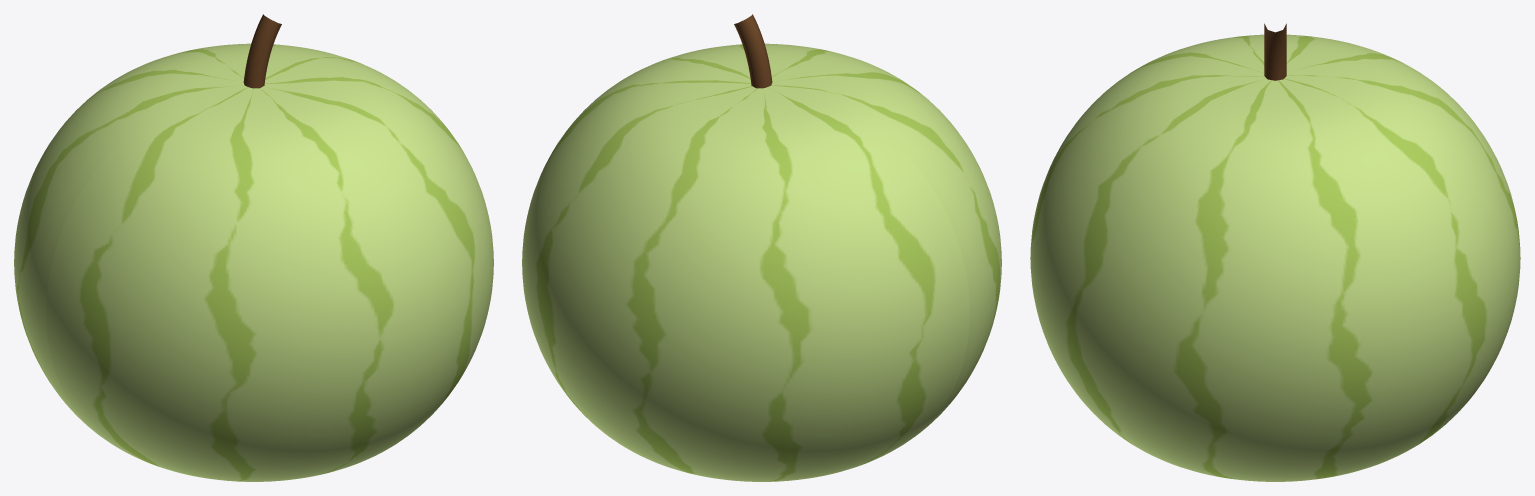
File: gooseberry.glb
The picture shows the model from 3 angles, left to right: view 1: azimuth 30°, elevation 25°; view 2: azimuth 150°, elevation 25°; view 3: azimuth 270°, elevation 25°; orthographic projection. The views are drawn at different scales.
Size of the model in its own units: 0.17 by 0.1652 by 0.17.
2 materials, 1 textured.
